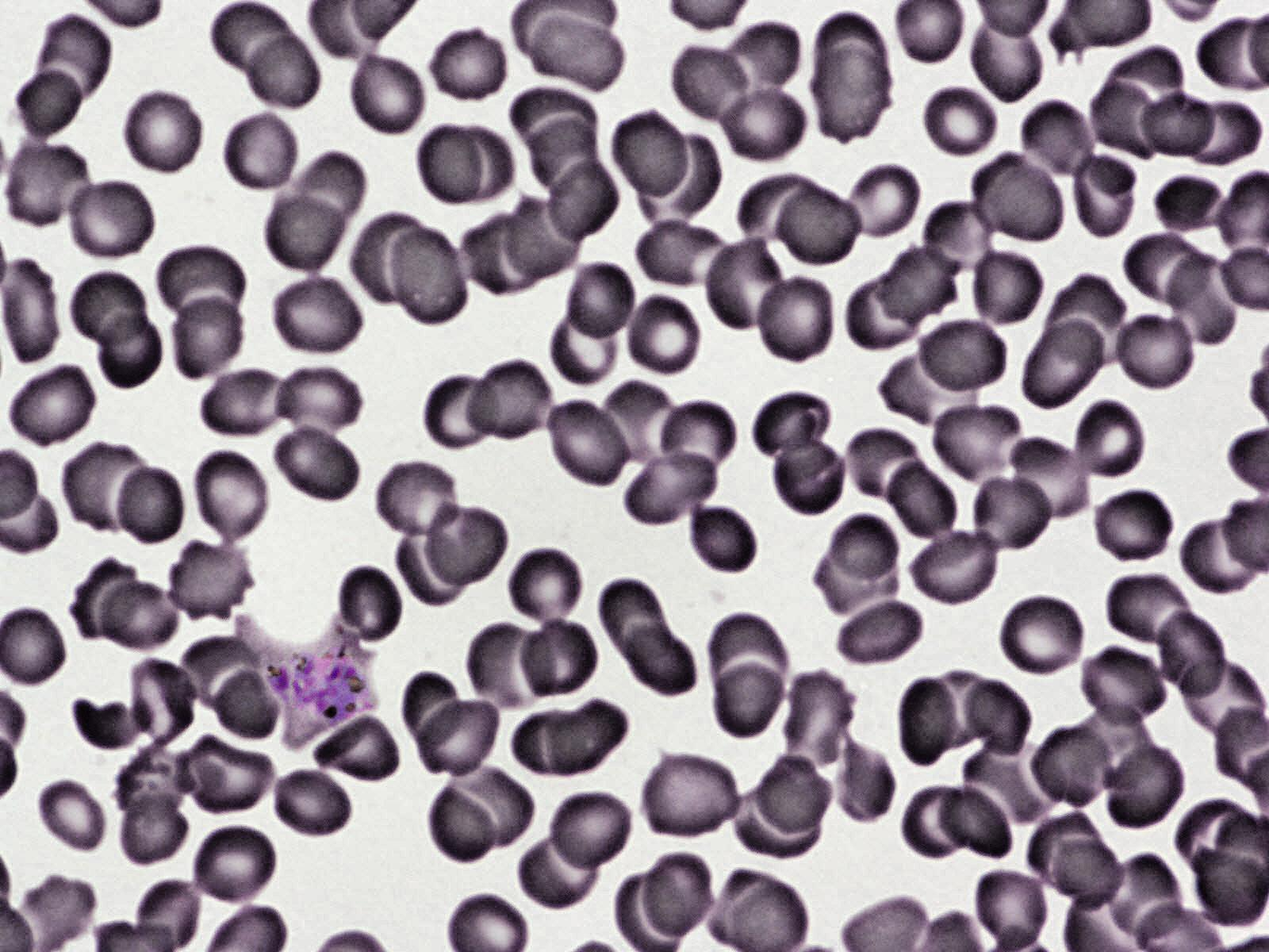Infected: (244, 618, 381, 747)
Uninfected: (59, 436, 160, 537), (639, 750, 742, 842), (968, 148, 1064, 246), (1064, 700, 1162, 794), (620, 437, 718, 530), (519, 5, 623, 92), (704, 233, 790, 336), (172, 730, 272, 818), (545, 395, 638, 489), (1, 137, 94, 231), (961, 739, 1068, 820), (839, 256, 930, 351), (25, 16, 113, 114), (464, 619, 557, 711), (996, 589, 1091, 678), (964, 6, 1045, 110), (1118, 230, 1219, 313), (7, 360, 98, 451), (1026, 719, 1113, 814), (1016, 319, 1107, 409), (933, 397, 1027, 484), (512, 826, 609, 910), (880, 347, 980, 428), (670, 45, 764, 131), (63, 178, 158, 263), (355, 206, 440, 301), (371, 458, 461, 547), (1152, 604, 1232, 704), (189, 448, 270, 546), (166, 287, 247, 385), (779, 669, 856, 772), (717, 77, 806, 166), (390, 227, 470, 326), (461, 359, 554, 444), (418, 374, 512, 458), (1048, 276, 1133, 368), (754, 271, 838, 364), (880, 451, 963, 545), (710, 647, 793, 741), (1106, 570, 1202, 651), (268, 364, 373, 438), (271, 274, 362, 359), (120, 87, 205, 178), (811, 51, 894, 143), (546, 789, 633, 876), (879, 237, 963, 327), (272, 422, 363, 505), (914, 317, 1008, 397), (1180, 512, 1268, 597), (704, 613, 792, 698), (910, 524, 999, 608), (776, 185, 865, 269), (734, 778, 825, 860), (844, 423, 930, 509), (1006, 437, 1091, 524), (448, 761, 536, 845), (416, 701, 508, 781), (167, 539, 253, 624), (815, 537, 903, 620), (1079, 645, 1168, 727), (917, 196, 998, 286), (514, 616, 599, 701), (642, 136, 723, 225), (201, 364, 297, 439), (769, 431, 853, 516), (192, 823, 278, 906), (622, 292, 704, 379), (428, 502, 510, 588), (1018, 99, 1098, 187), (609, 111, 688, 200), (634, 217, 730, 290), (814, 11, 891, 102), (719, 23, 803, 106), (348, 52, 428, 139), (1027, 807, 1107, 894), (308, 713, 404, 785), (1166, 251, 1240, 344), (825, 735, 899, 827), (591, 581, 673, 664), (838, 161, 922, 242), (1113, 312, 1198, 392), (462, 214, 542, 299), (559, 258, 638, 344), (1067, 148, 1141, 239), (156, 247, 247, 321), (1184, 657, 1266, 739), (1068, 400, 1149, 483), (265, 192, 346, 275), (753, 390, 833, 473), (326, 563, 404, 648), (732, 172, 825, 243), (11, 876, 100, 950), (123, 653, 193, 747), (918, 672, 999, 753), (1108, 745, 1186, 829), (600, 377, 673, 466), (397, 522, 470, 611), (1093, 486, 1174, 566), (507, 546, 585, 629), (12, 64, 89, 148), (638, 852, 714, 936), (209, 2, 296, 75), (217, 111, 297, 190), (508, 190, 579, 279), (835, 595, 921, 668), (1087, 82, 1162, 165), (429, 26, 508, 104), (757, 754, 834, 834), (546, 698, 627, 774), (968, 246, 1043, 328), (1113, 854, 1184, 940), (920, 82, 997, 161), (974, 867, 1048, 949), (67, 559, 140, 642), (37, 777, 113, 856), (181, 633, 261, 708), (970, 472, 1051, 546), (549, 305, 619, 390), (0, 261, 58, 363), (116, 747, 197, 820), (1176, 800, 1258, 872), (424, 787, 498, 866), (267, 770, 350, 840), (250, 34, 326, 110), (688, 501, 764, 577), (118, 791, 192, 869), (899, 784, 972, 863), (660, 401, 739, 474), (513, 709, 596, 778), (66, 272, 145, 344), (1196, 847, 1267, 927), (895, 680, 960, 767), (507, 88, 593, 152), (120, 470, 187, 552), (551, 158, 618, 240), (533, 117, 600, 198), (1101, 47, 1186, 110), (1180, 100, 1262, 165), (941, 787, 1014, 860), (399, 670, 466, 749), (102, 585, 179, 653), (631, 625, 700, 700), (1140, 89, 1217, 156), (72, 694, 155, 756), (1154, 172, 1229, 240), (968, 680, 1032, 758), (1055, 841, 1129, 908), (420, 125, 482, 203), (212, 666, 279, 738), (293, 148, 365, 214), (98, 313, 158, 392), (132, 881, 200, 949), (829, 513, 900, 578), (451, 127, 512, 202)
